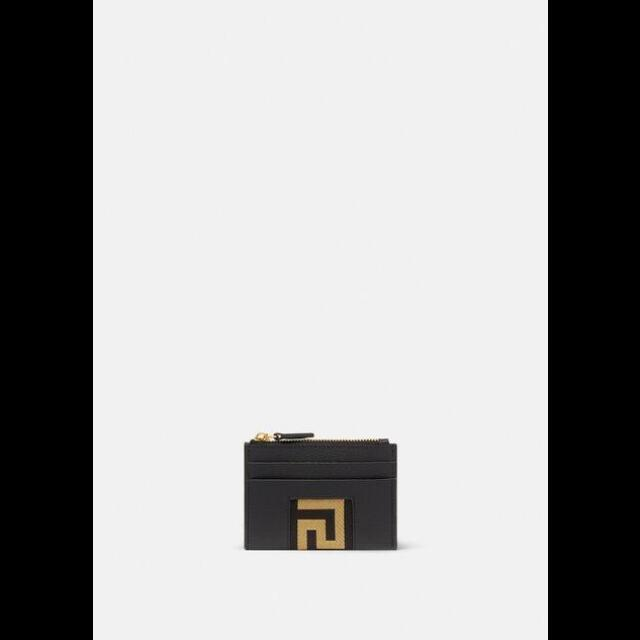wallet: (237, 432, 399, 554)
